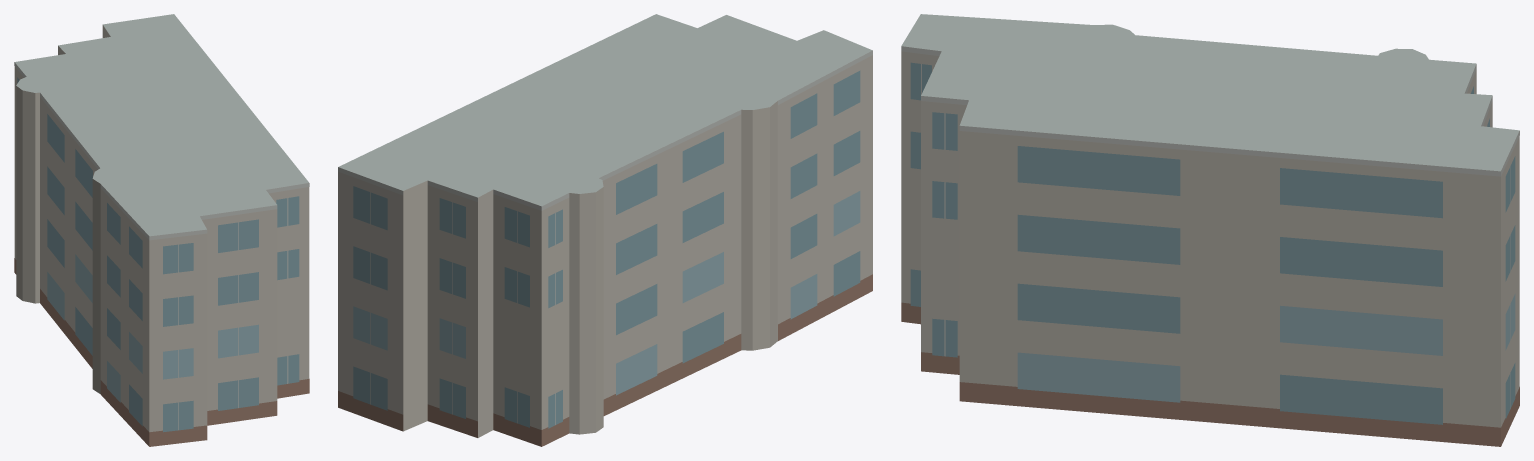
Rendered from survey-upis-32883972.glb.
3 views of the same model, side by side, from view 1: azimuth 30°, elevation 25°; view 2: azimuth 150°, elevation 25°; view 3: azimuth 270°, elevation 25° (orthographic). The views are drawn at different scales.
Visible parts, largest first — view 1: survey-upis-32883972.tmp; view 2: survey-upis-32883972.tmp; view 3: survey-upis-32883972.tmp.
Part boxes in pixels (box(x1,y1,x2,y2)): survey-upis-32883972.tmp: box(14, 14, 309, 446); survey-upis-32883972.tmp: box(338, 14, 872, 446); survey-upis-32883972.tmp: box(901, 14, 1519, 446).
Size of the model in its own units: 15.75 by 12.85 by 26.16.
